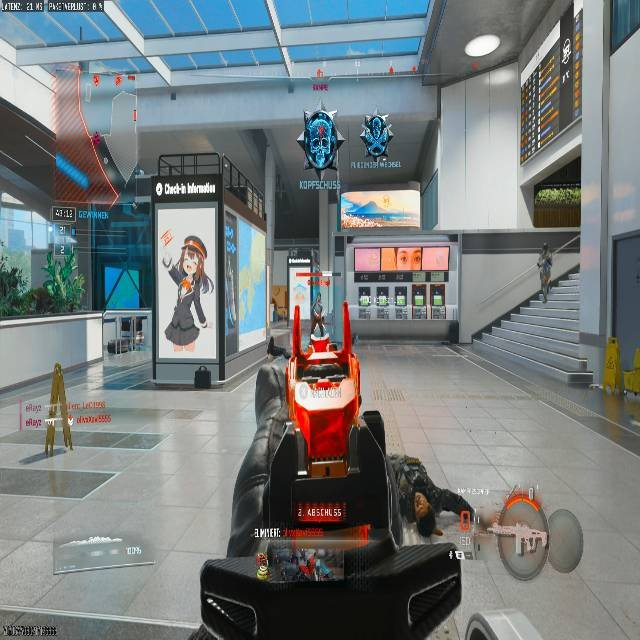head: (182, 235, 207, 258)
player: (161, 235, 210, 351), (298, 106, 342, 177), (361, 111, 393, 165)
